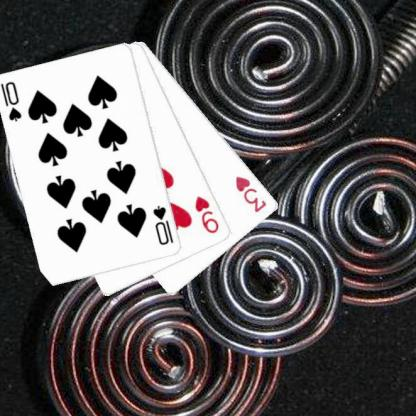10S: (150, 202, 176, 247), (0, 78, 23, 123)
3H: (233, 173, 268, 214)
9H: (192, 193, 221, 235)
